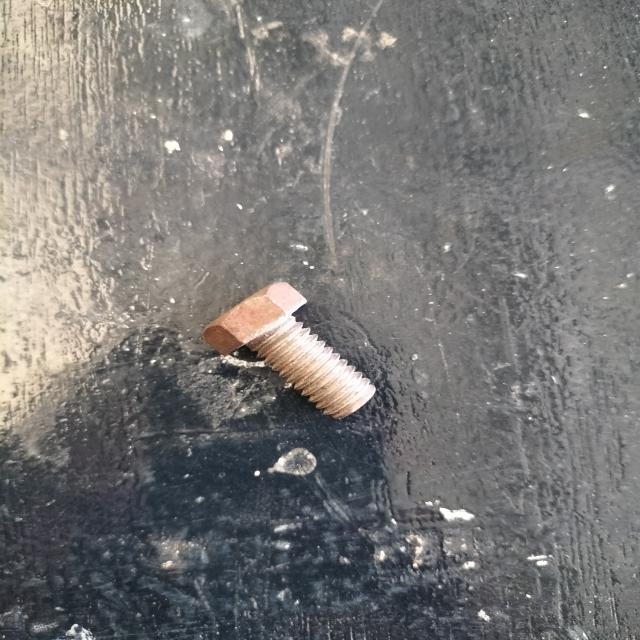bolt: (205, 282, 379, 419)
